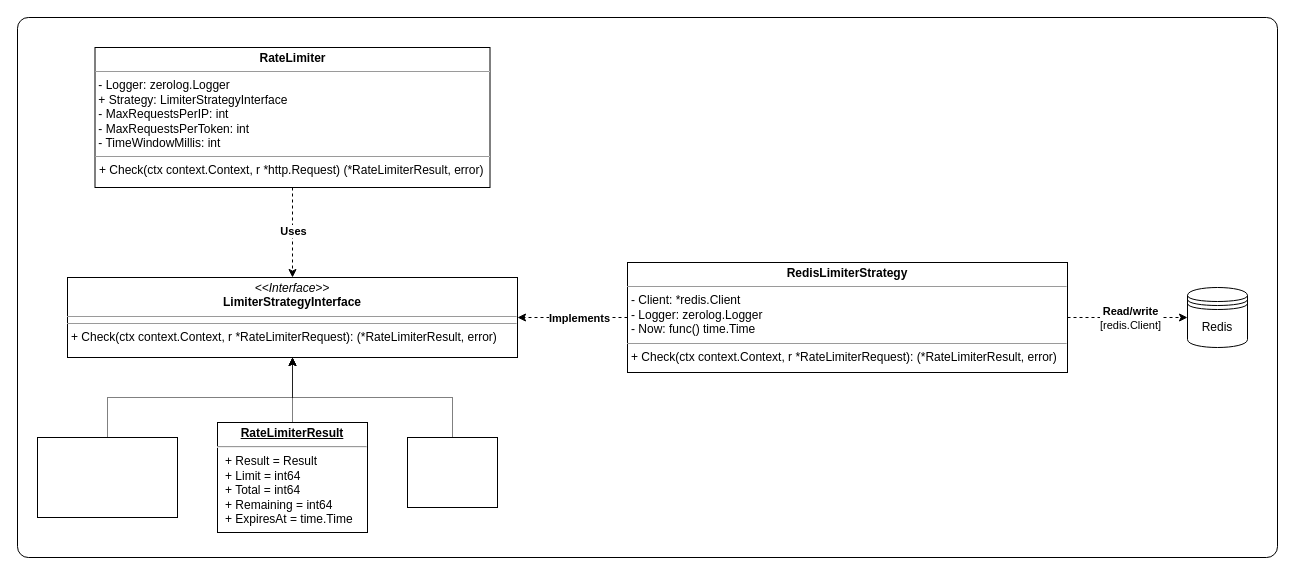
This 1295x575 diagram has some shape labels left out. Each missing label, with the centre of its shape:
RateLimiterRequest + Key = string + Limit = int64 + Duration = time.Time: (107,477)
Result:int Allow = 1 Deny = -1: (452,472)
